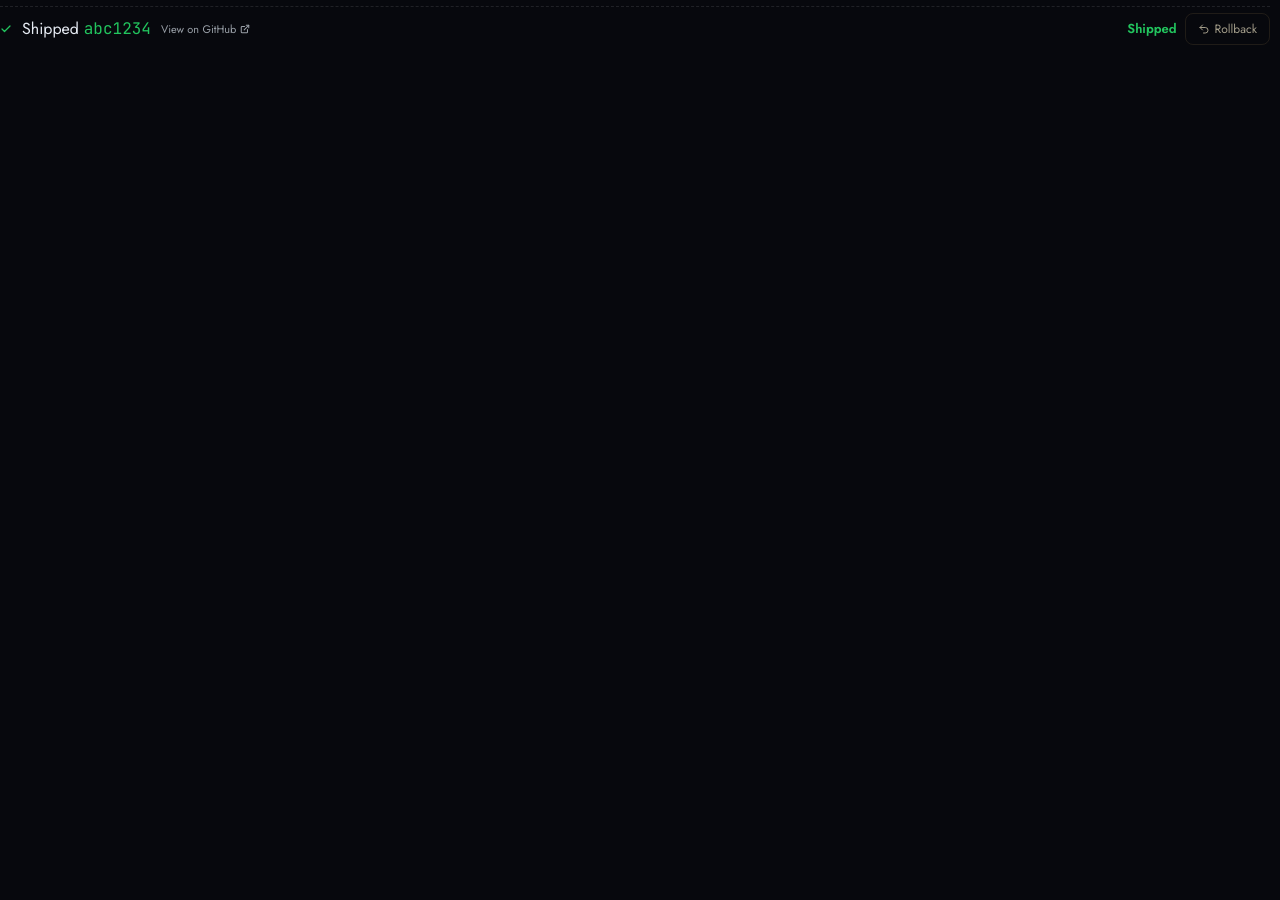
it: Part XIII · 1 — ShippedRow drift-acknowledge rollback › drift response reopens the modal in its drift variant (no hand-off)
The image size is (1280, 900).
Press the mouse on the button with test id "loop-shipped-rollback-btn-abc1234" at (1227, 29), box [1185,13,1270,45]
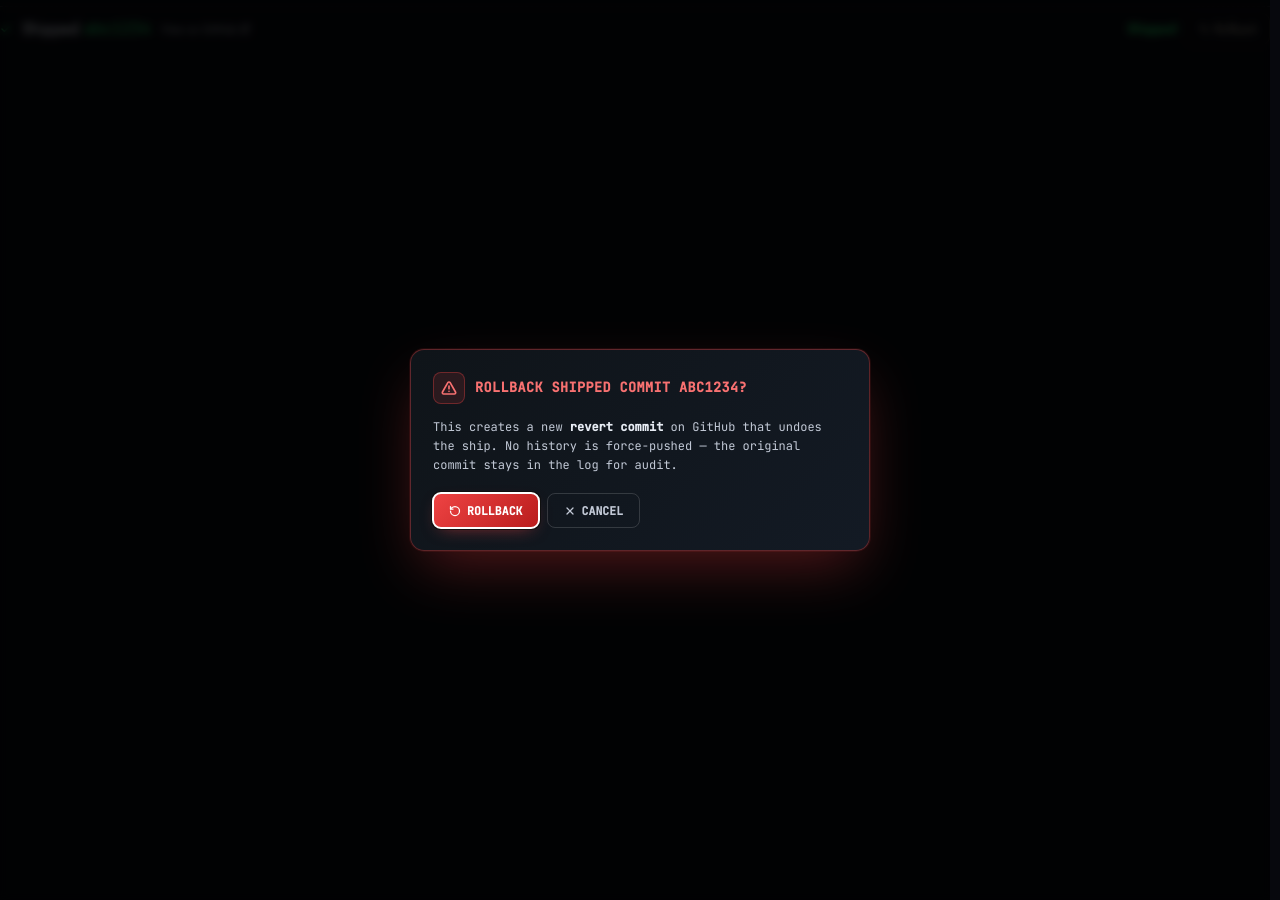
Now the dialog with test id "rollback-confirm-modal" is shown
Click the button with test id "rollback-confirm-approve" at (486, 511), box [433,493,538,528]
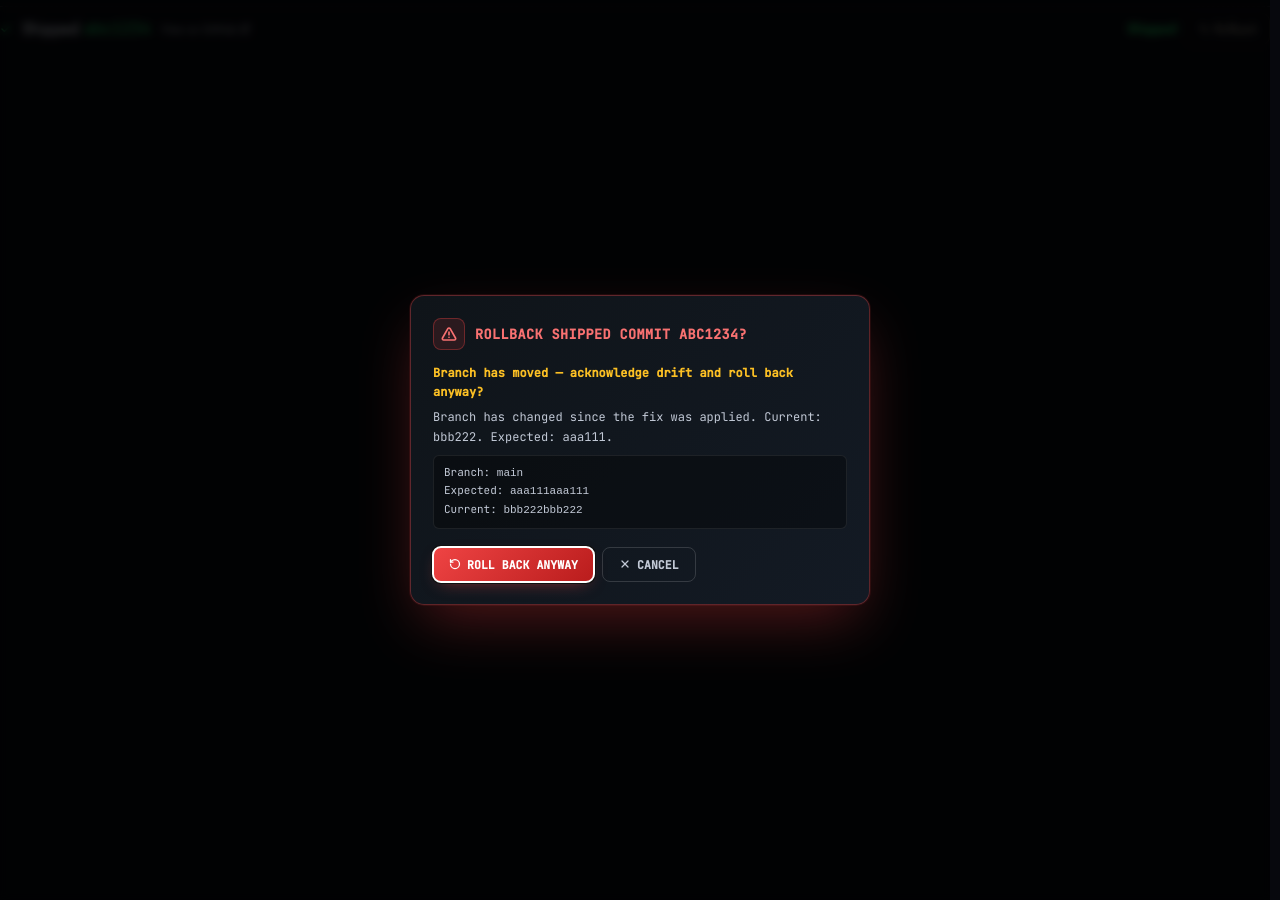
Now the element with test id "rollback-confirm-drift-detail" is shown, box [433,364,847,529]
Now the element with test id "rollback-confirm-drift-detail" shows "Branch has moved", box [433,365,793,400]
Now the button with test id "rollback-confirm-approve" reads "Roll back anyway", box [433,547,594,582]
